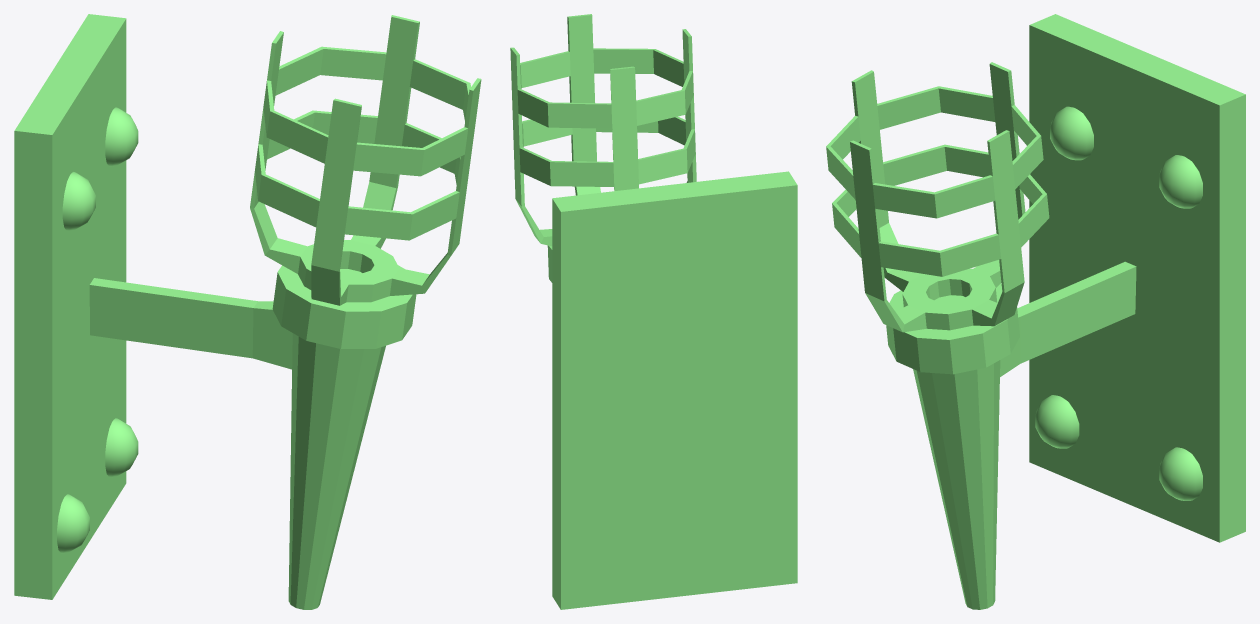
File: Wall Torch_low.fbx
3 renders of one model, left to right at view 1: azimuth 30°, elevation 25°; view 2: azimuth 150°, elevation 25°; view 3: azimuth 270°, elevation 25°, orthographic. The views are drawn at different scales.
Parts seen in each view (by area): view 1: Torch_low; view 2: Torch_low; view 3: Torch_low.
Part boxes in pixels (x1=…): Torch_low: x1=14, y1=14, x2=481, y2=609; Torch_low: x1=510, y1=14, x2=797, y2=609; Torch_low: x1=826, y1=14, x2=1245, y2=609.
Size of the model in its own units: 107 by 147 by 105.
